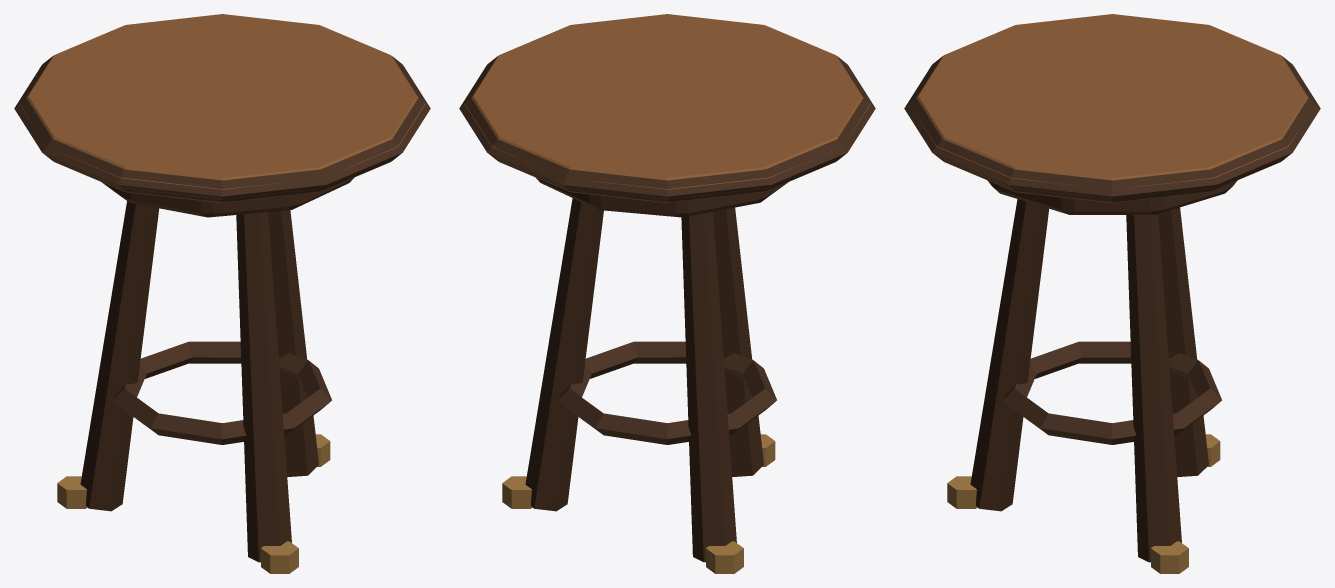
The model's file is prop_side_table_wood_a.glb.
3 views of the same model, side by side, from view 1: azimuth 30°, elevation 25°; view 2: azimuth 150°, elevation 25°; view 3: azimuth 270°, elevation 25° (orthographic).
Parts seen in each view (by area): view 1: table_apron, table_top, table_foot_0; view 2: table_apron, table_top, table_foot_0; view 3: table_apron, table_top, table_foot_0.
Boxes of the visible parts, x1,y1,x2,y2 form: table_apron: (14,56,430,562); table_top: (19,14,425,202); table_foot_0: (57,434,330,573); table_apron: (459,56,875,562); table_top: (464,14,870,202); table_foot_0: (502,434,775,573); table_apron: (904,56,1320,562); table_top: (915,14,1308,202); table_foot_0: (947,434,1220,573).
Size of the model in its own units: 0.482 by 0.5292 by 0.482.
